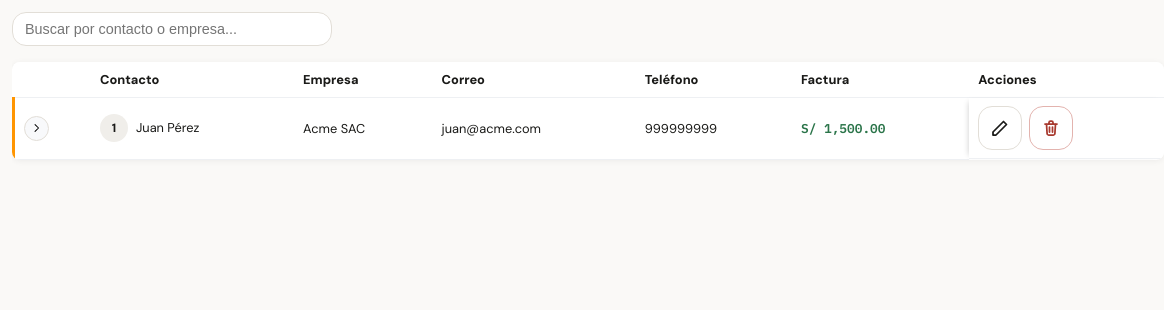
Test: LeadsTable › asigna la clase --proceso cuando el lead no tiene conversion_at ni rechazo_at
Click the button with class "leads-table__boton-expandir": (37, 128) [24,116,49,141]
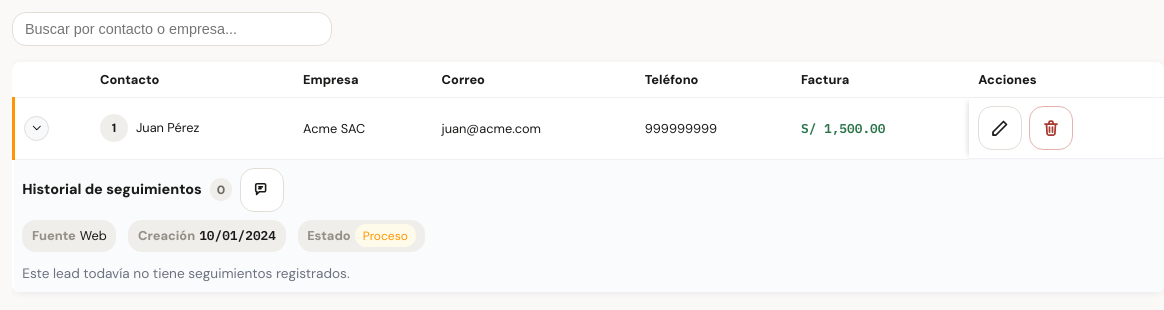
Expected: the text "proceso" is shown, [355,224,416,247]
